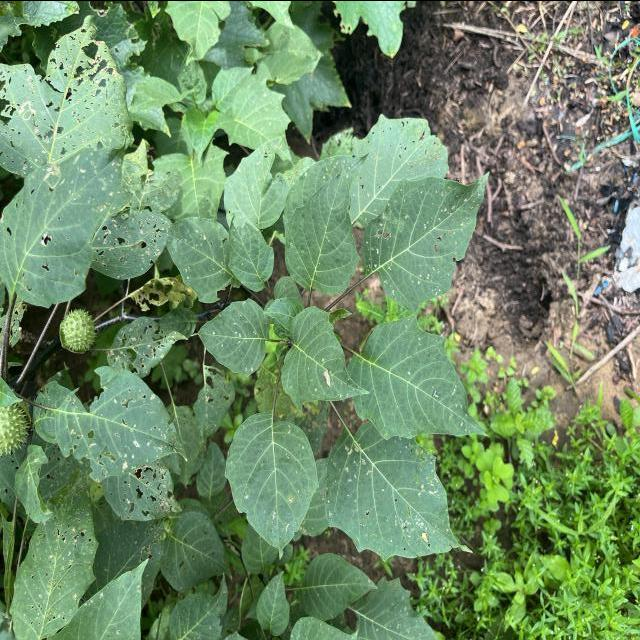Datura metal linn: (324, 418, 476, 564), (358, 168, 491, 314), (344, 312, 490, 441), (222, 408, 320, 561), (283, 158, 362, 296), (278, 303, 372, 413), (188, 295, 272, 377)
